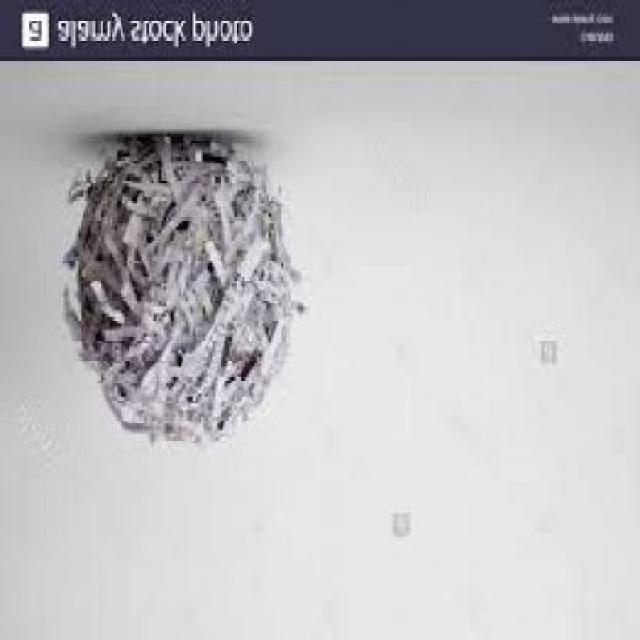PAPER: (59, 136, 303, 450)
